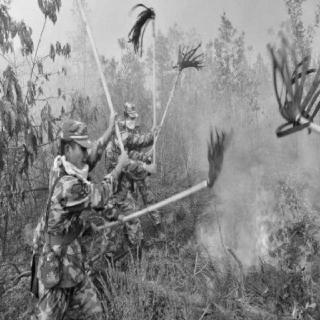Fire: (225, 148, 318, 318)
other: (108, 141, 118, 153)
